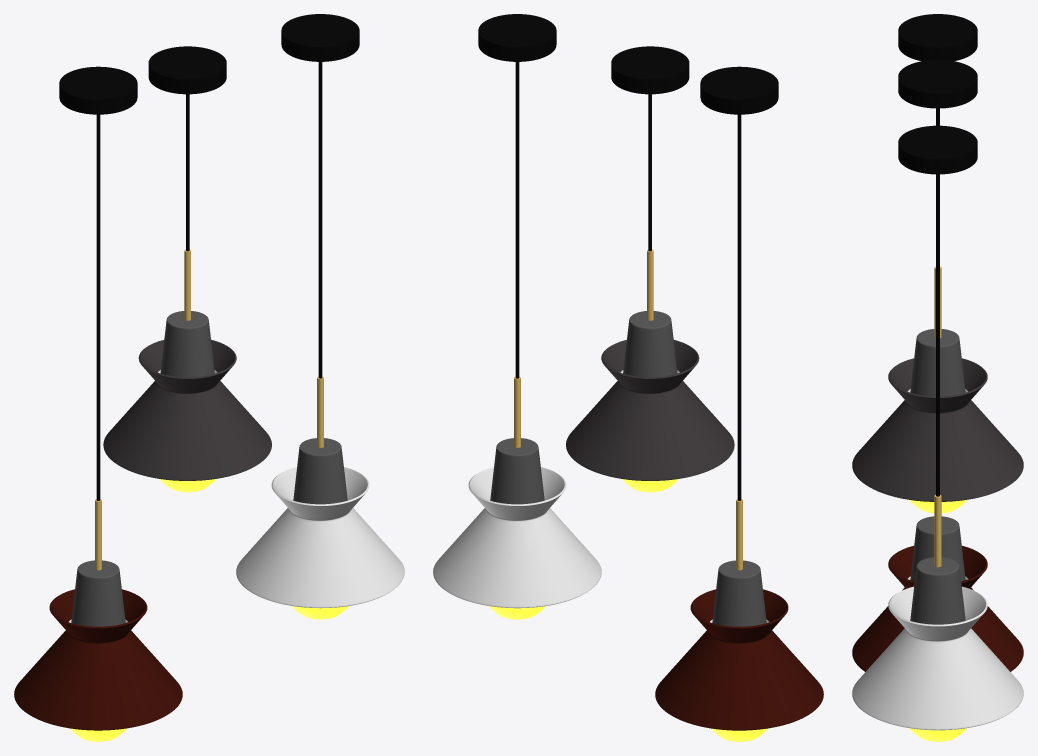
The model's file is Space_Corona_FBX.FBX.
3 renders of one model, left to right at view 1: azimuth 30°, elevation 25°; view 2: azimuth 150°, elevation 25°; view 3: azimuth 270°, elevation 25°, orthographic.
Visible parts, largest first — view 1: Space_Red, Space_white, Space_Grey; view 2: Space_Red, Space_white, Space_Grey; view 3: Space_white, Space_Grey, Space_Red.
Boxes of the visible parts, bbox=[...] form: Space_Red: bbox=[14, 66, 182, 741]; Space_white: bbox=[236, 14, 404, 619]; Space_Grey: bbox=[103, 46, 271, 492]; Space_Red: bbox=[655, 66, 823, 741]; Space_white: bbox=[433, 14, 601, 619]; Space_Grey: bbox=[566, 46, 734, 492]; Space_white: bbox=[852, 125, 1023, 741]; Space_Grey: bbox=[852, 59, 1023, 513]; Space_Red: bbox=[852, 14, 1023, 671].
Bounding box in the file's own units: 21.39 × 36.34 × 8.49.
